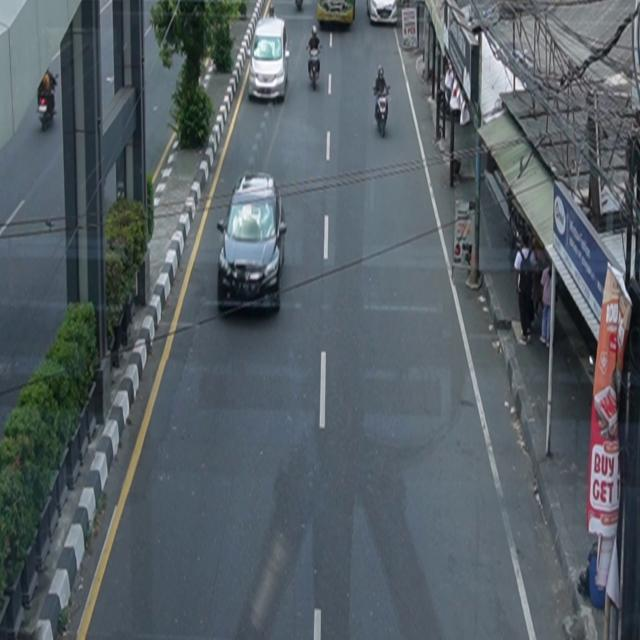car: (218, 172, 288, 317), (249, 17, 291, 104)
